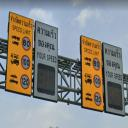speed_limit_100: (20, 54, 32, 72), (93, 73, 102, 89)
speed_limit_120: (20, 72, 30, 90), (93, 91, 103, 107)
speed_limit_80: (21, 34, 31, 52), (92, 55, 101, 72)
